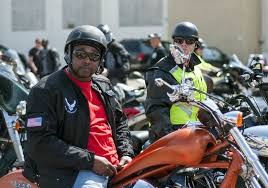helmet: (56, 21, 109, 69), (163, 22, 204, 54)
